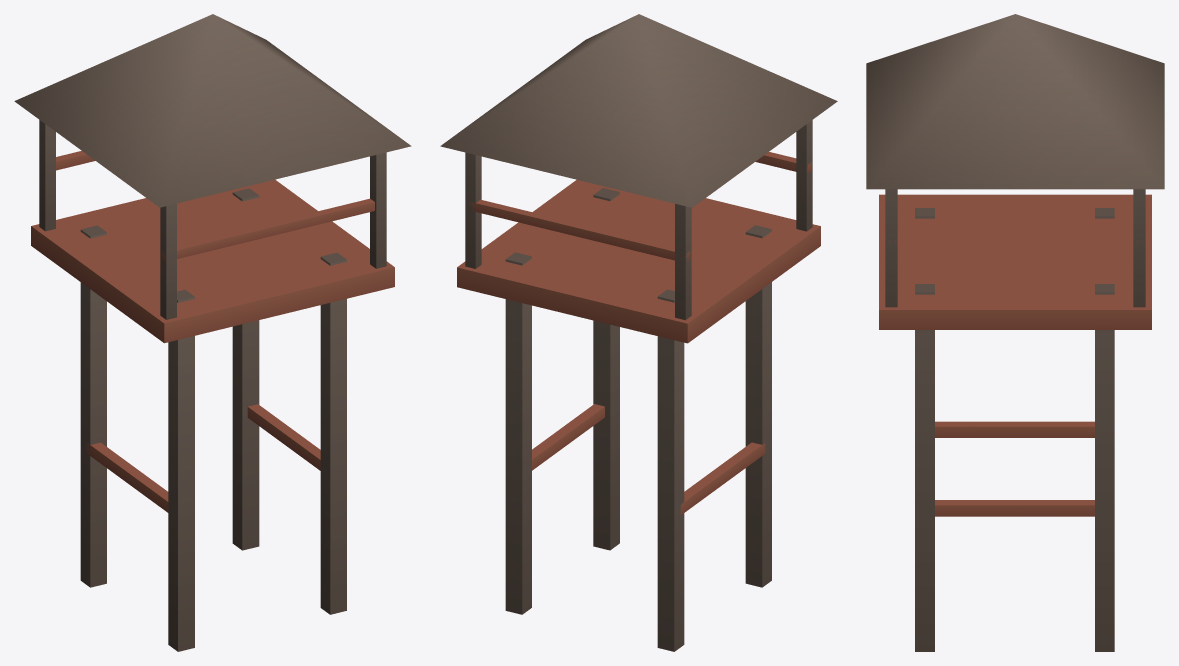
File: watchtower.glb
3 renders of one model, left to right at view 1: azimuth 30°, elevation 25°; view 2: azimuth 150°, elevation 25°; view 3: azimuth 270°, elevation 25°, orthographic. The views are drawn at different scales.
Parts seen in each view (by area): view 1: watchtower; view 2: watchtower; view 3: watchtower.
Part boxes in pixels (x1=…): watchtower: x1=14, y1=14, x2=411, y2=651; watchtower: x1=440, y1=14, x2=837, y2=651; watchtower: x1=866, y1=14, x2=1164, y2=651.
Bounding box in the file's own units: 2.4 × 5.3 × 2.4.
1 material, 1 textured.
